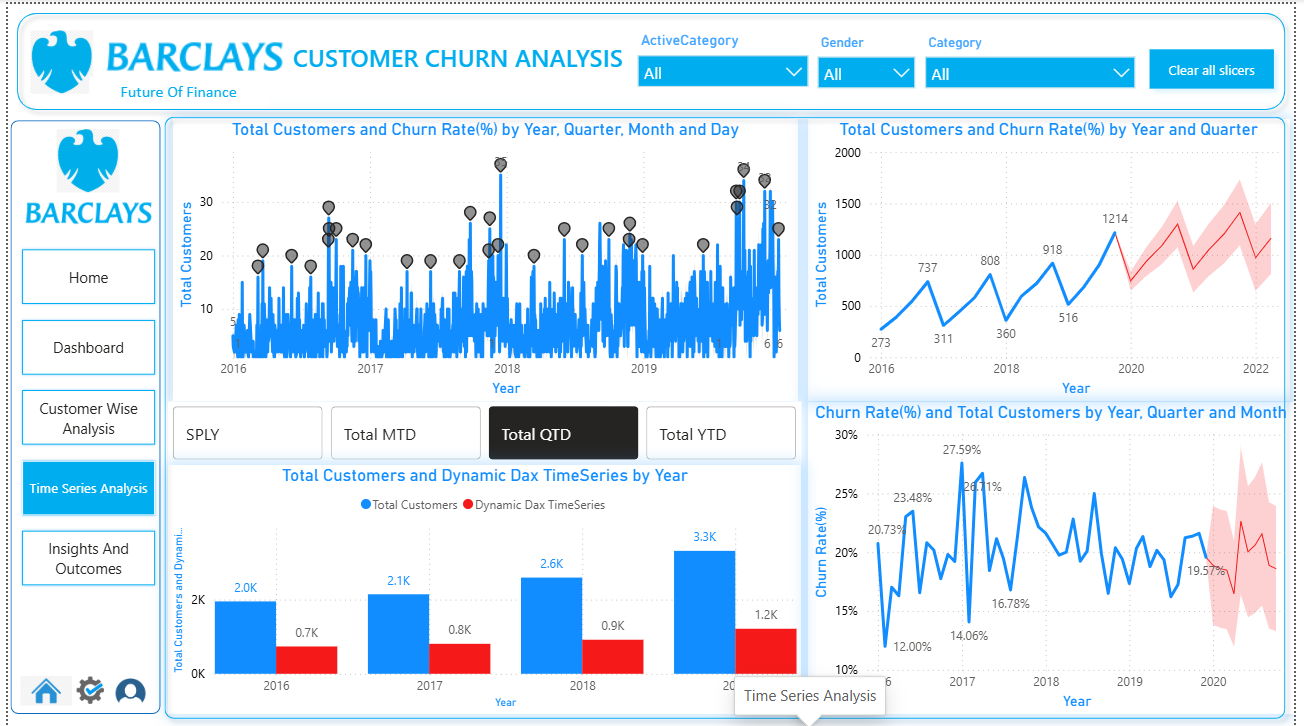

This screenshot's page, from the dashboard's own definition file:
{"tool":"powerbi","page":{"name":"Time Series Analysis","canvas":[1280,720],"ordinal":4},"visuals":[{"type":"shape","box":[0,0,1280,114.4],"z":0,"group":"g1"},{"type":"shape","box":[146.8,103.2,1133.2,617],"z":0},{"type":"shape","box":[2.8,116.1,149.3,590.9],"z":0,"group":"g2"},{"type":"image","box":[98.3,26.1,175.4,53.5],"z":1000,"group":"g1"},{"type":"lineChart","fields":{"Y":["All_Measures.Total Customers"],"Category":["DIM_Calendar_Table.Date.Variation.Date Hierarchy.Year","DIM_Calendar_Table.Date.Variation.Date Hierarchy.Quarter","DIM_Calendar_Table.Date.Variation.Date Hierarchy.Month","DIM_Calendar_Table.Date.Variation.Date Hierarchy.Day"]},"box":[164.2,114.4,622,281.1],"z":1000},{"type":"image","box":[17.4,187.9,125.6,41.1],"z":1000,"group":"g2"},{"type":"group","id":"g1","title":"Group 1","box":[0,0,1280,114.4],"z":2000},{"type":"image","box":[8.7,26.1,89.6,63.4],"z":2000,"group":"g1"},{"type":"image","box":[34.8,124.4,89.6,63.4],"z":2000,"group":"g2"},{"type":"textbox","box":[273.7,32.3,348.3,43.5],"z":3000,"group":"g1"},{"type":"lineChart","fields":{"Y":["All_Measures.Total Customers"],"Category":["DIM_Calendar_Table.Date.Variation.Date Hierarchy.Year","DIM_Calendar_Table.Date.Variation.Date Hierarchy.Quarter","DIM_Calendar_Table.Date.Variation.Date Hierarchy.Month","DIM_Calendar_Table.Date.Variation.Date Hierarchy.Day"]},"box":[796.1,114.4,478.9,281.1],"z":3000},{"type":"pageNavigator","box":[11.2,241.4,138.1,343.3],"z":3000,"group":"g2"},{"type":"textbox","box":[80.9,72.1,177.9,31.1],"z":4000,"group":"g1"},{"type":"lineChart","fields":{"Category":["DIM_Calendar_Table.Date.Variation.Date Hierarchy.Year","DIM_Calendar_Table.Date.Variation.Date Hierarchy.Quarter","DIM_Calendar_Table.Date.Variation.Date Hierarchy.Month","DIM_Calendar_Table.Date.Variation.Date Hierarchy.Day"],"Y":["All_Measures.Churn Rate(%)"]},"box":[796.1,395.6,483.9,311],"z":4000},{"type":"image","box":[63.4,669.3,37.3,27.4],"z":4000,"group":"g2"},{"type":"slicer","fields":{"Values":["DIM_Active_Customer.ActiveCategory"]},"box":[622,22.4,179.1,63.4],"z":5000,"group":"g1"},{"type":"advancedSlicerVisual","fields":{"Values":["Time Series Matrices.Key Values"]},"box":[159.2,395.6,630.7,63.4],"z":5000},{"type":"image","box":[12.4,663.1,51,41.1],"z":5000,"group":"g2"},{"type":"slicer","fields":{"Values":["DIM_Gender.GenderCategory"]},"box":[801.1,26.1,107,77.1],"z":6000,"group":"g1"},{"type":"clusteredColumnChart","fields":{"Category":["DIM_Calendar_Table.Date.Variation.Date Hierarchy.Year","DIM_Calendar_Table.Date.Variation.Date Hierarchy.Quarter","DIM_Calendar_Table.Date.Variation.Date Hierarchy.Month","DIM_Calendar_Table.Date.Variation.Date Hierarchy.Day"],"Y":["All_Measures.Total Customers","All_Measures.Dynamic Dax TimeSeries"]},"box":[159.2,459,630.7,247.5],"z":6000},{"type":"image","box":[100.7,669.3,42.3,33.6],"z":6000,"group":"g2"},{"type":"slicer","fields":{"Values":["DIM_Credit_Card.Category"]},"box":[908.1,26.1,218.9,77.1],"z":7000,"group":"g1"},{"type":"group","id":"g2","title":"Group 2","box":[2.8,116.1,149.3,590.9],"z":7000},{"type":"actionButton","box":[1127,36.1,141.8,57.2],"z":8000,"group":"g1"}]}

Visuals, with their boxes in screenshot pixels (x1, y1, x2, y2), scaled from the page's 1280x720 canvas onto the 1304x726 screenshot:
shape: BBox(0, 0, 1303, 115)
shape: BBox(150, 104, 1303, 725)
shape: BBox(3, 117, 155, 713)
image: BBox(100, 26, 279, 80)
lineChart - All_Measures.Total Customers x DIM_Calendar_Table.Date.Variation.Date Hierarchy.Year: BBox(167, 115, 801, 399)
image: BBox(18, 189, 146, 231)
"Group 1" group: BBox(0, 0, 1303, 115)
image: BBox(9, 26, 100, 90)
image: BBox(35, 125, 127, 189)
textbox: BBox(279, 33, 634, 76)
lineChart - All_Measures.Total Customers x DIM_Calendar_Table.Date.Variation.Date Hierarchy.Year: BBox(811, 115, 1299, 399)
pageNavigator: BBox(11, 243, 152, 590)
textbox: BBox(82, 73, 264, 104)
lineChart - DIM_Calendar_Table.Date.Variation.Date Hierarchy.Year x DIM_Calendar_Table.Date.Variation.Date Hierarchy.Quarter: BBox(811, 399, 1303, 712)
image: BBox(65, 675, 103, 703)
slicer - DIM_Active_Customer.ActiveCategory: BBox(634, 23, 816, 87)
advancedSlicerVisual - Time Series Matrices.Key Values: BBox(162, 399, 805, 463)
image: BBox(13, 669, 65, 710)
slicer - DIM_Gender.GenderCategory: BBox(816, 26, 925, 104)
clusteredColumnChart - DIM_Calendar_Table.Date.Variation.Date Hierarchy.Year x DIM_Calendar_Table.Date.Variation.Date Hierarchy.Quarter: BBox(162, 463, 805, 712)
image: BBox(103, 675, 146, 709)
slicer - DIM_Credit_Card.Category: BBox(925, 26, 1148, 104)
"Group 2" group: BBox(3, 117, 155, 713)
actionButton: BBox(1148, 36, 1293, 94)
